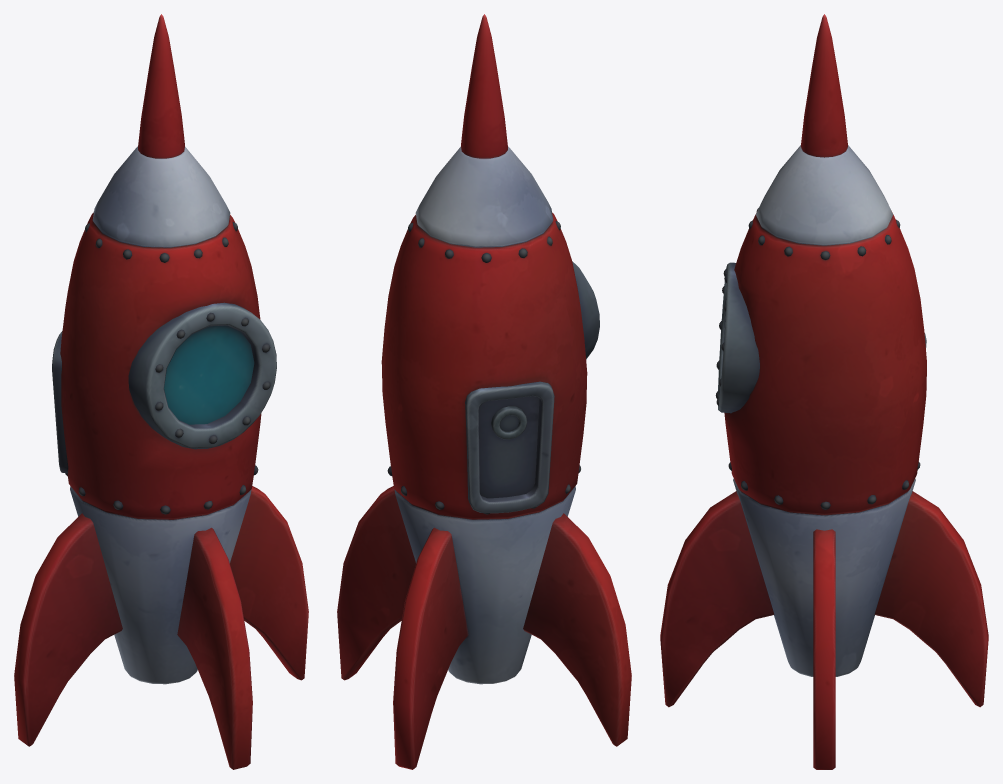
Rendered from Rocket_B_Color1.fbx.
3 views of the same model, side by side, from view 1: azimuth 30°, elevation 25°; view 2: azimuth 150°, elevation 25°; view 3: azimuth 270°, elevation 25° (orthographic).
Parts seen in each view (by area): view 1: Rocket_B_Color1; view 2: Rocket_B_Color1; view 3: Rocket_B_Color1.
Part boxes in pixels (<box>): Rocket_B_Color1: <box>14,14,308,769</box>; Rocket_B_Color1: <box>337,14,631,769</box>; Rocket_B_Color1: <box>660,14,988,769</box>.
Size of the model in its own units: 616 by 1430 by 616.
